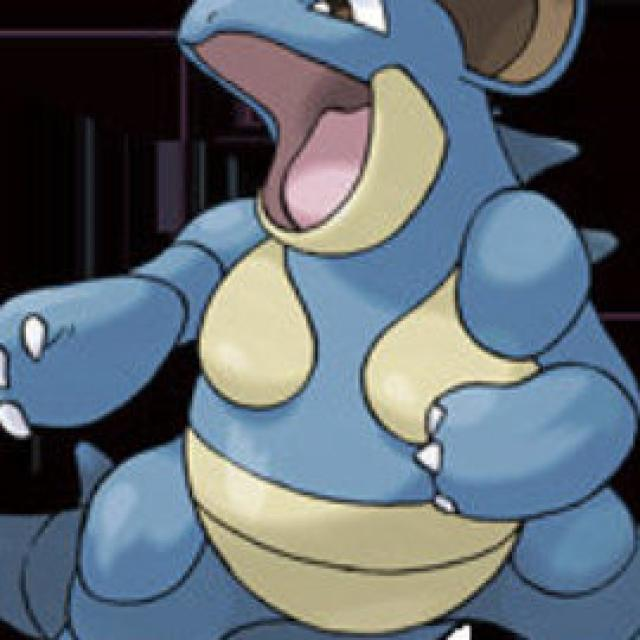Nidoqueen: (165, 2, 640, 640)
